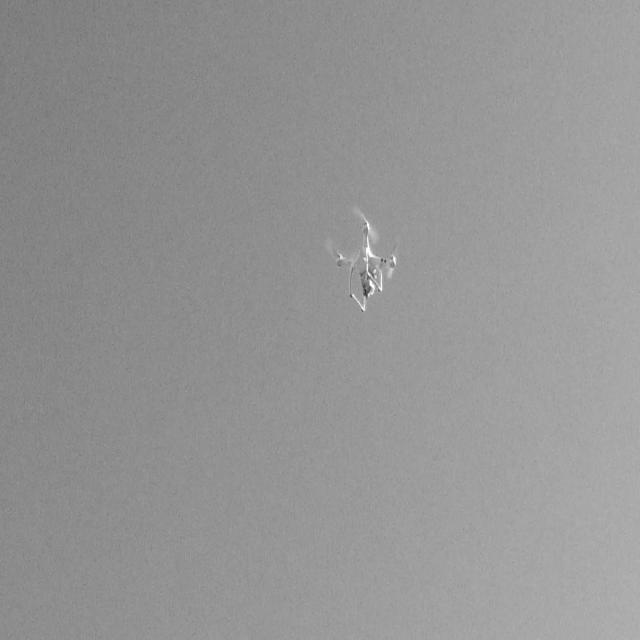drone: (329, 203, 401, 317)
